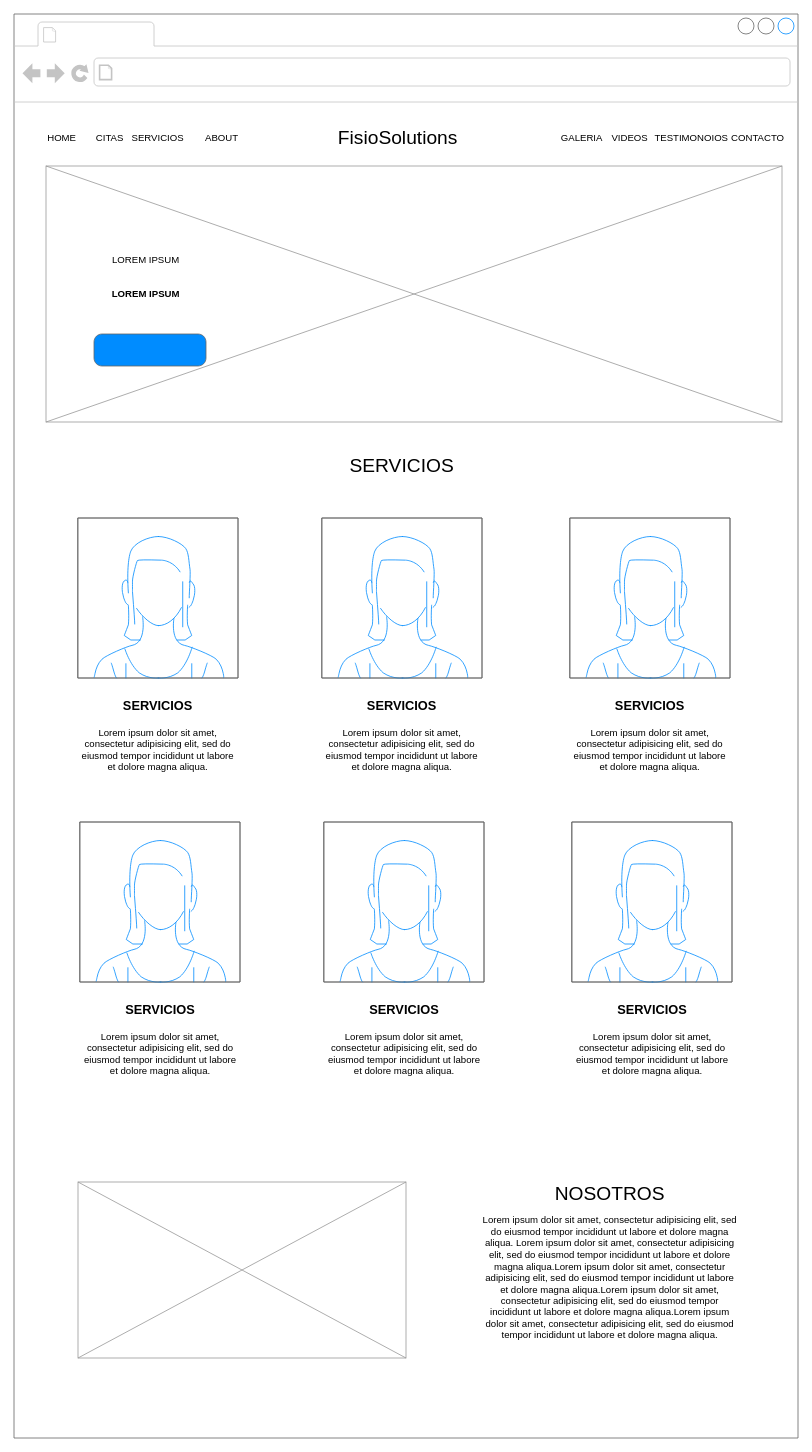
Some shapes in this 812 by 1452 pixel diagram are drawn without their labels. Each missing label, with the box of its shape:
https://www.fisiosolutions.com: (117, 61, 318, 83)
Page 1: (61, 23, 150, 44)
Separa Tu Cita: (93, 333, 206, 366)
